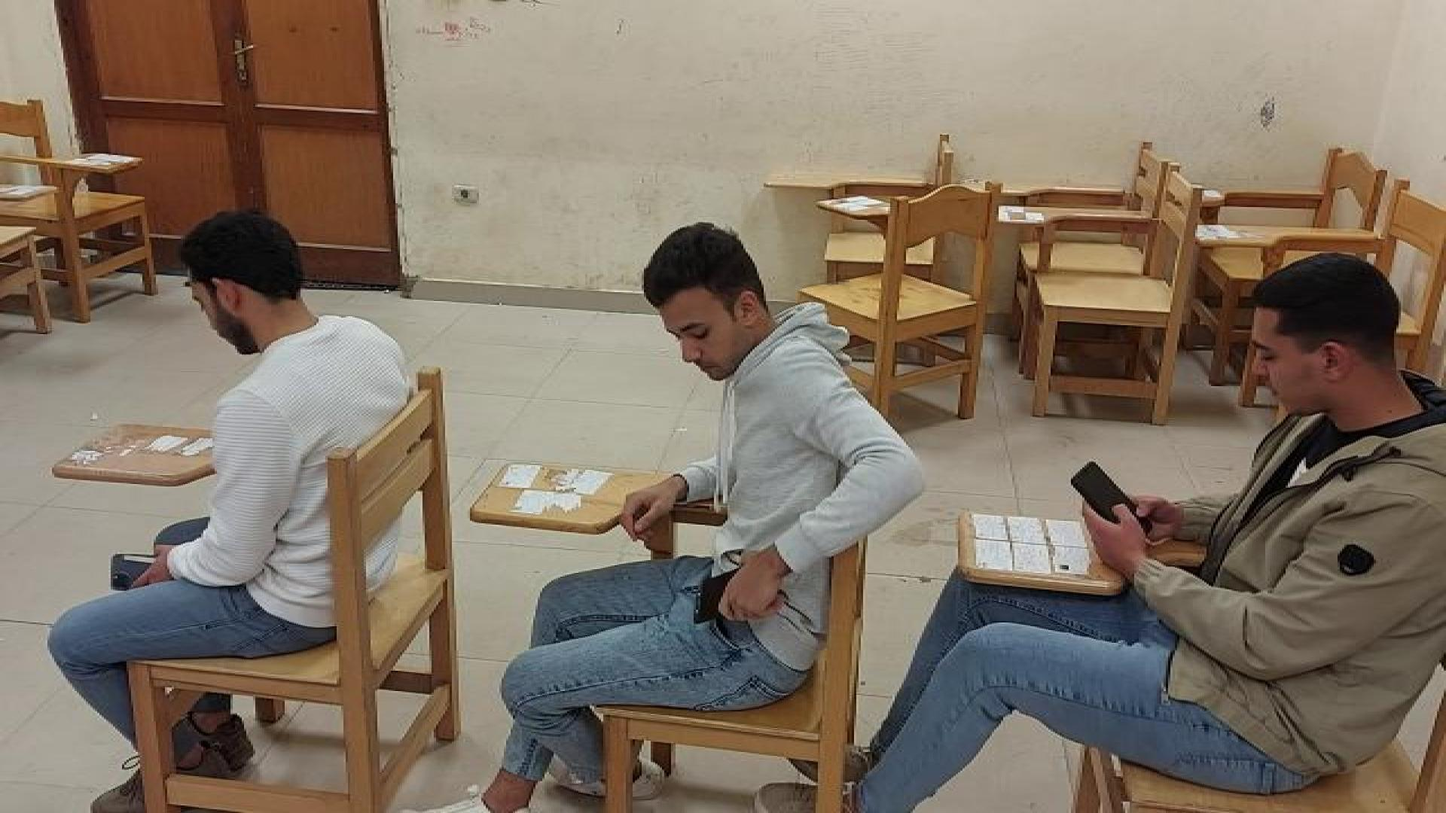phone: (1066, 459, 1157, 543), (692, 572, 760, 625), (106, 549, 183, 591)
